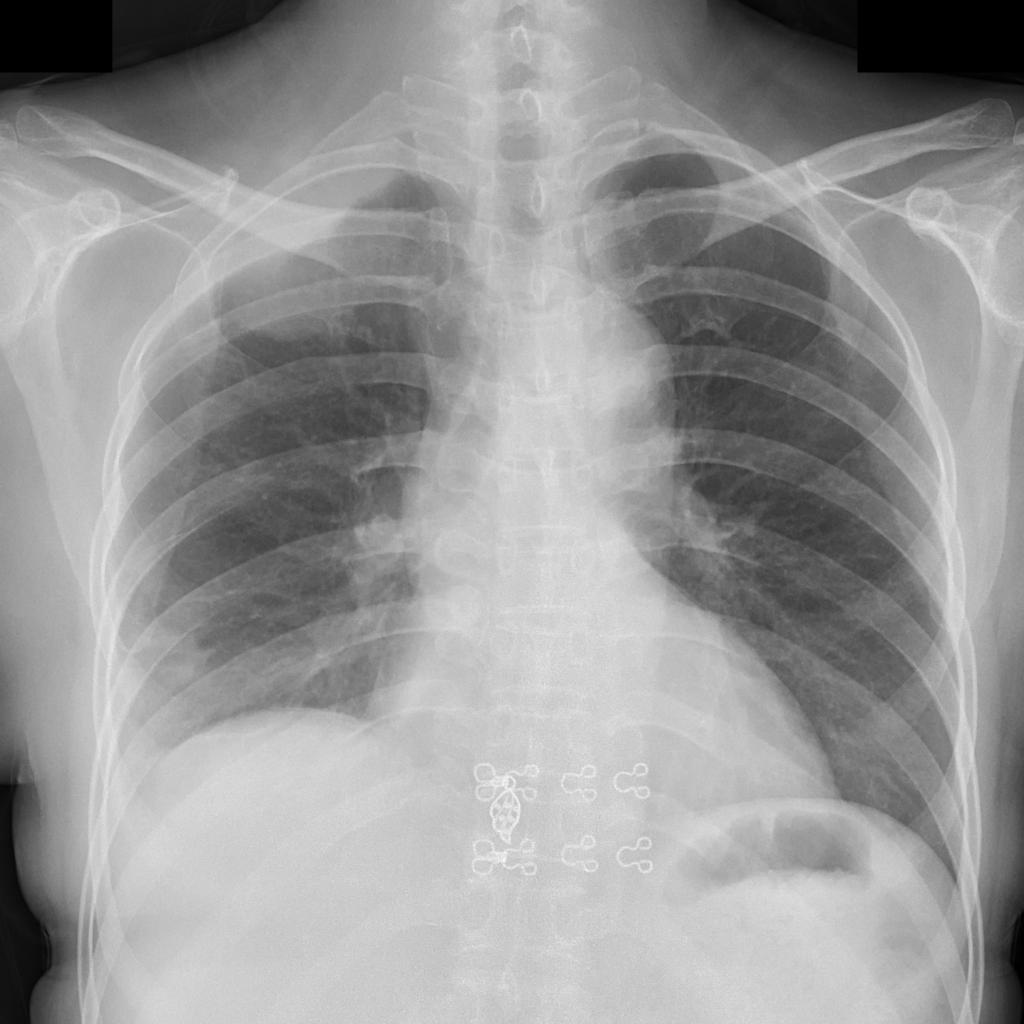Nodule: (229, 215, 404, 341)
